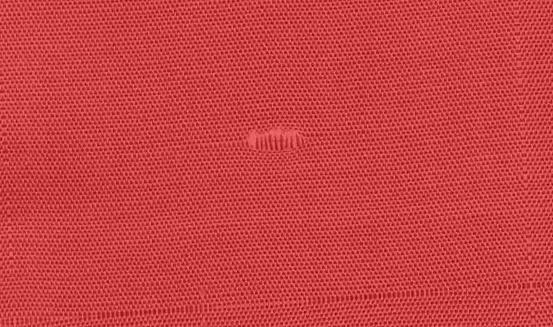slub: (240, 125, 315, 156)
